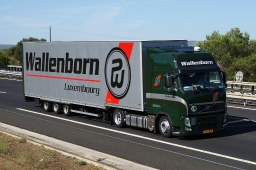truck: (18, 32, 229, 139)
